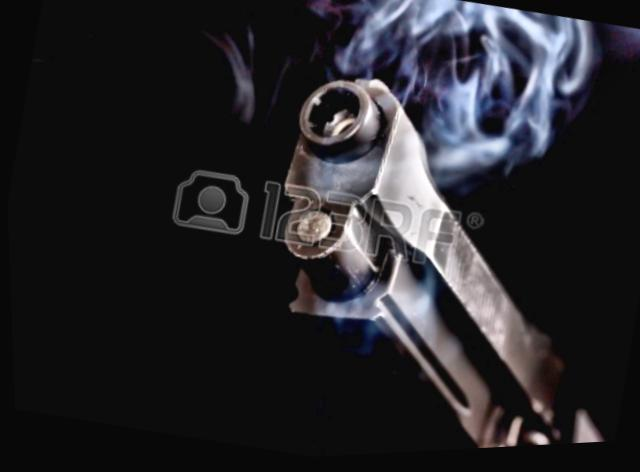pistol: (211, 51, 640, 463)
